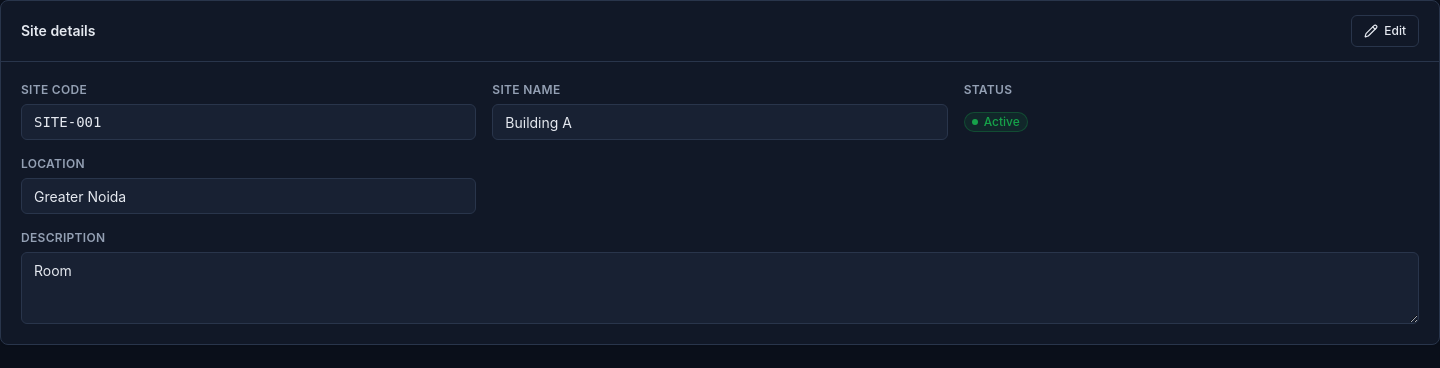
SiteDetailsCard edit/save/cancel › Cancel discards unsaved changes
Click the button "Edit" at (1385, 31), box [1351,15,1419,47]
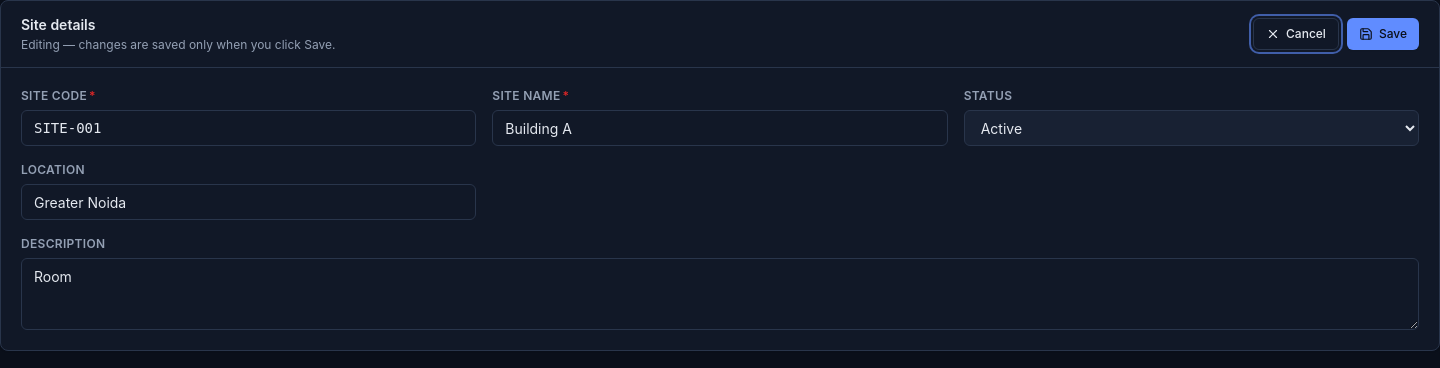
Replace the text in the field labelled "Site Name*" with "Changed" at (720, 128), box [492,110,948,146]
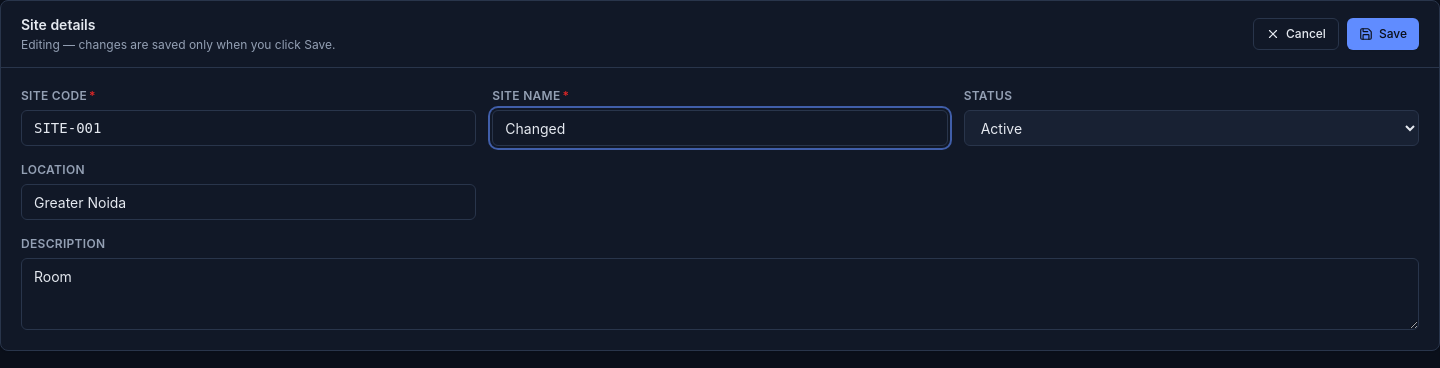
Click the button "Cancel" at (1296, 34), box [1253,18,1339,50]
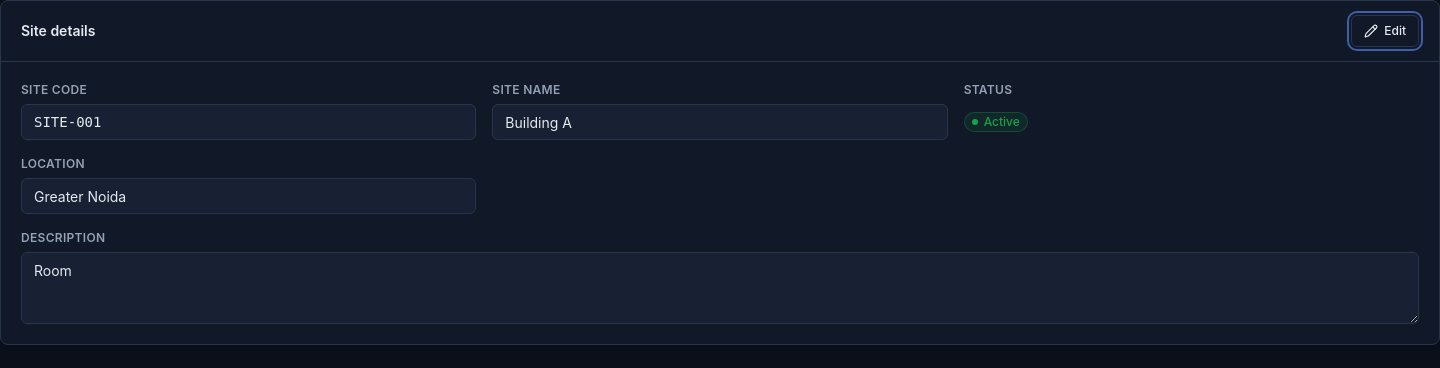
Result: the field labelled "Site Name" holds "Building A" at [492,104,948,140]
